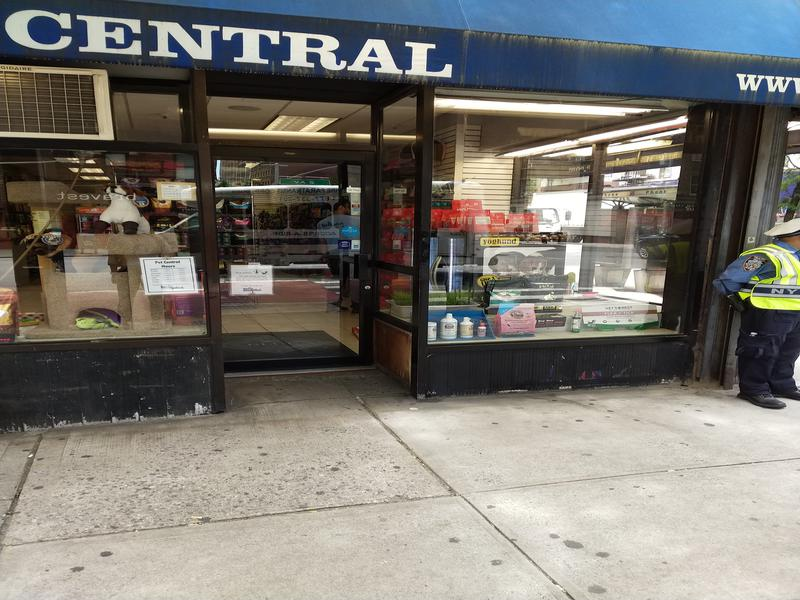door: (210, 132, 383, 372)
